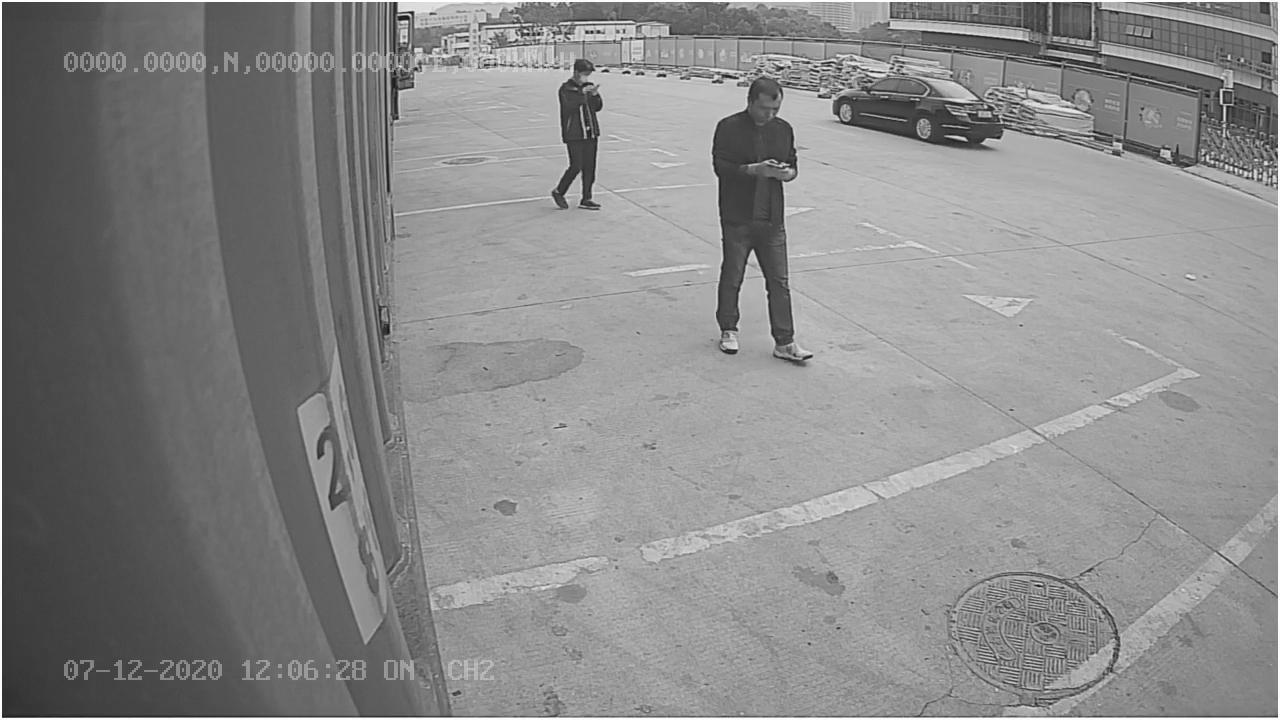person: (711, 75, 819, 364)
